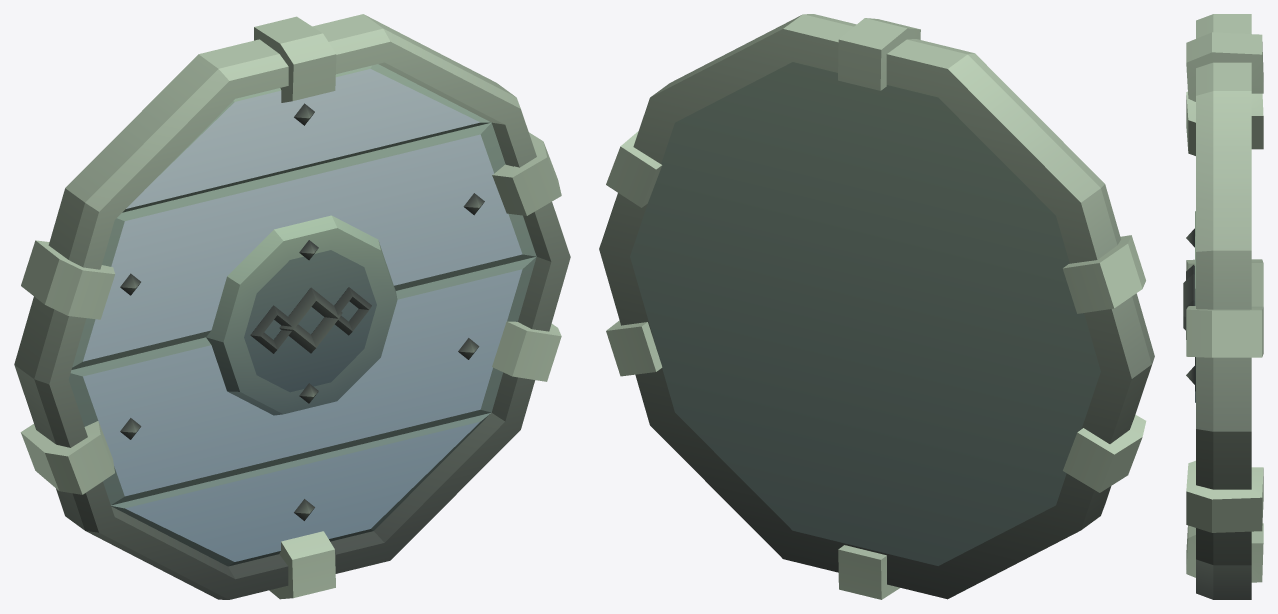
File: shield_003.fbx
3 renders of one model, left to right at view 1: azimuth 30°, elevation 25°; view 2: azimuth 150°, elevation 25°; view 3: azimuth 270°, elevation 25°, orthographic. The views are drawn at different scales.
Visible parts, largest first — view 1: shield.003; view 2: shield.003; view 3: shield.003.
Boxes of the visible parts, x1,y1,x2,y2 form: shield.003: [14, 14, 570, 599]; shield.003: [599, 14, 1154, 599]; shield.003: [1183, 14, 1263, 599].
Bounding box in the file's own units: 82.06 × 81.64 × 11.13.
